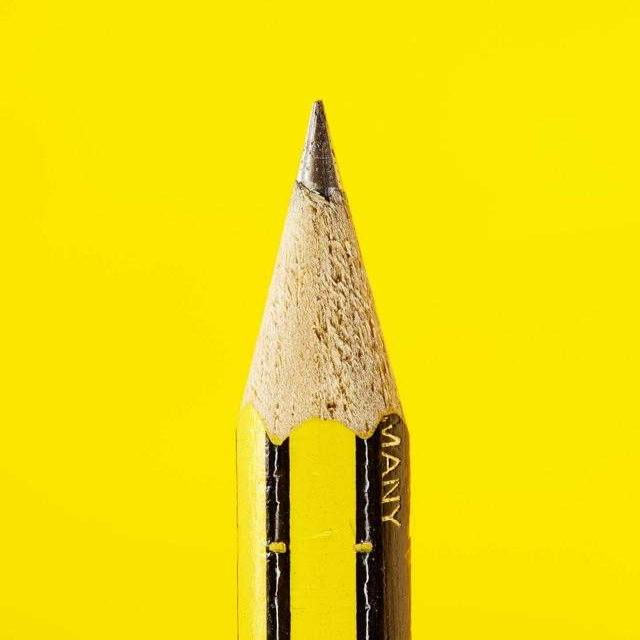pencil: (187, 79, 518, 639)
